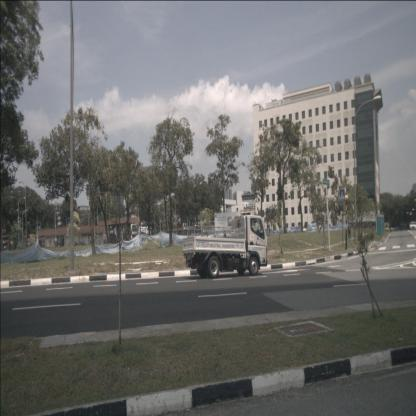human-pedestrian-adult: (348, 221, 352, 241), (353, 222, 356, 241)
vehicle-car: (410, 221, 416, 230)
vehicle-truck: (182, 214, 268, 278)
